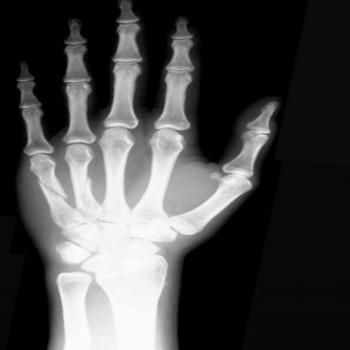Fracture: (30, 178, 74, 202)
